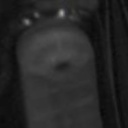missing_screw: (13, 13, 115, 115)
